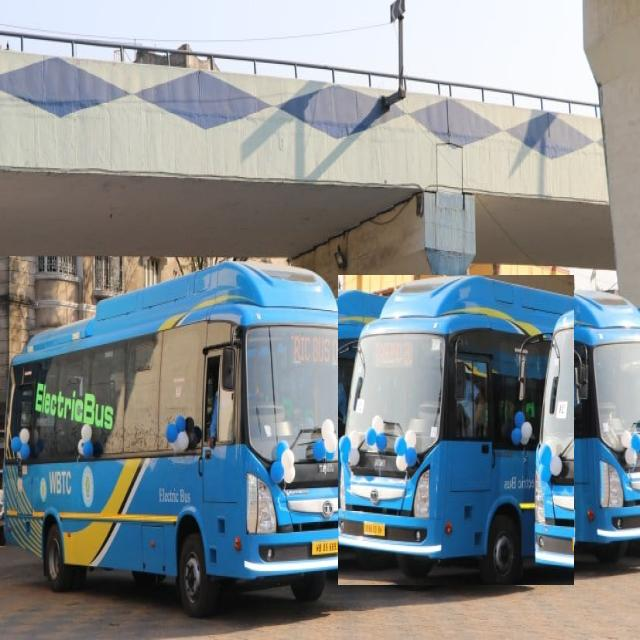bus: (5, 261, 380, 614), (339, 275, 574, 585)
